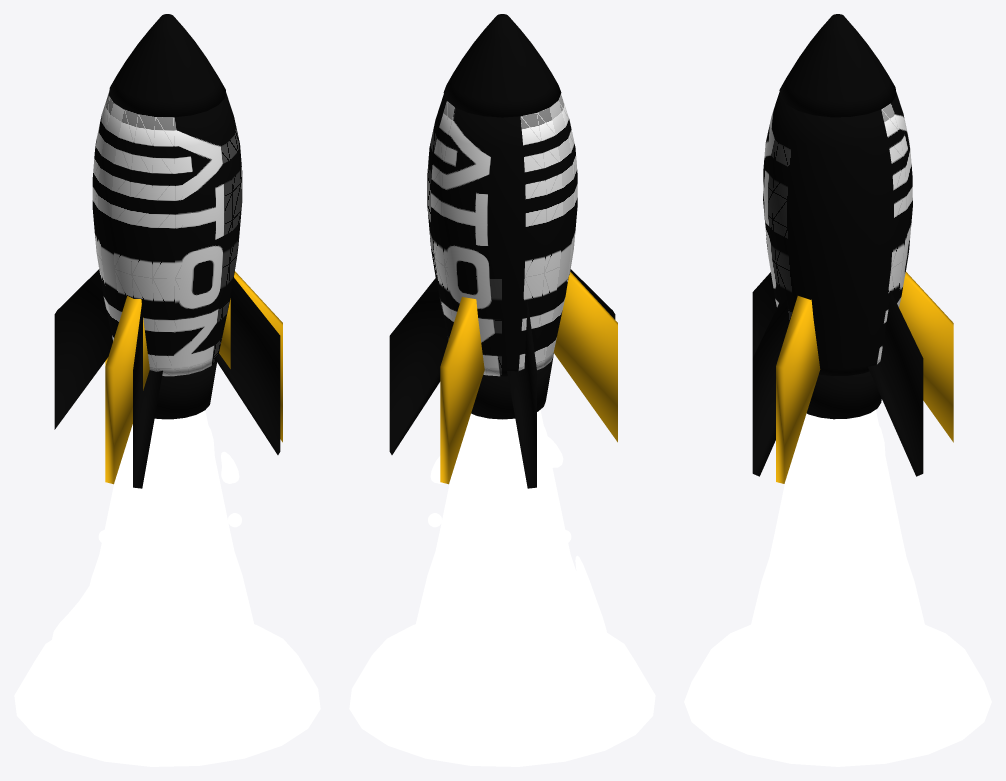
The model's file is rocket.glb.
3 renders of one model, left to right at view 1: azimuth 30°, elevation 25°; view 2: azimuth 150°, elevation 25°; view 3: azimuth 270°, elevation 25°, orthographic.
Parts seen in each view (by area): view 1: Cylinder.003, Rocket, Cylinder.001, Plane.003, Plane.002, Plane.007, Plane.004, Sphere, Cylinder.002, Plane.008, Cube.004; view 2: Cylinder.003, Rocket, Cylinder.001, Plane.007, Plane.001, Plane.009, Plane.002, Sphere, Cylinder.002, Cube.004; view 3: Cylinder.003, Rocket, Cylinder.001, Plane.001, Plane.008, Plane.009, Plane.003, Sphere, Cylinder.002, Plane.004.
Boxes of the visible parts, x1,y1,x2,y2 form: Cylinder.003: (14, 410, 320, 766); Rocket: (92, 92, 242, 376); Cylinder.001: (109, 14, 225, 117); Plane.003: (214, 277, 280, 454); Plane.002: (54, 269, 112, 429); Plane.007: (105, 296, 149, 484); Plane.004: (133, 300, 162, 488); Sphere: (123, 425, 214, 477); Cylinder.002: (154, 361, 216, 419); Plane.008: (219, 271, 282, 442); Cube.004: (52, 564, 105, 643); Cylinder.003: (349, 410, 655, 766); Rocket: (427, 94, 577, 376); Cylinder.001: (443, 14, 561, 117); Plane.007: (553, 272, 617, 442); Plane.001: (389, 277, 448, 454); Plane.009: (440, 296, 484, 484); Plane.002: (507, 301, 536, 488); Sphere: (456, 426, 547, 477); Cylinder.002: (471, 356, 553, 419); Cube.004: (575, 555, 607, 651); Cylinder.003: (684, 409, 991, 766); Rocket: (763, 92, 912, 375); Cylinder.001: (779, 14, 896, 117); Plane.001: (868, 291, 923, 476); Plane.008: (776, 296, 820, 483); Plane.009: (899, 272, 953, 442); Plane.003: (752, 291, 789, 476); Sphere: (791, 426, 885, 477); Cylinder.002: (807, 371, 881, 419); Plane.004: (752, 272, 776, 357).
Size of the model in its own units: 8.57 by 21.04 by 8.57.
7 materials, 2 textured.
